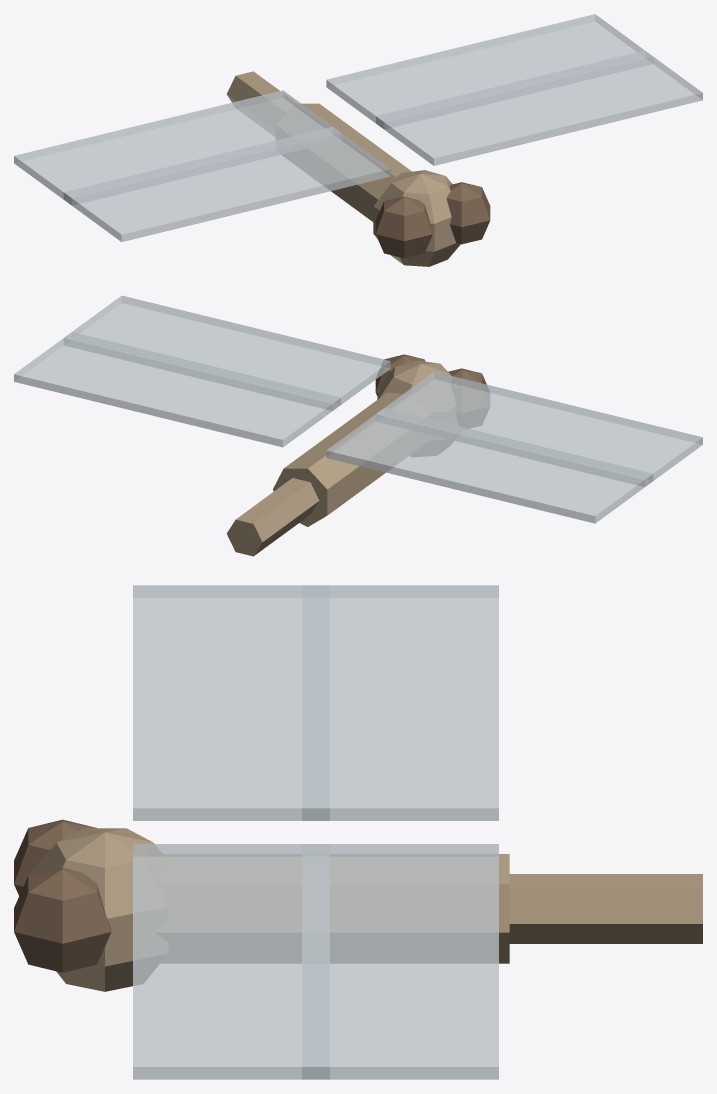
File: critter_dragonfly.glb
3 views of the same model, one above another, from view 1: azimuth 30°, elevation 25°; view 2: azimuth 150°, elevation 25°; view 3: azimuth 270°, elevation 25° (orthographic). The views are drawn at different scales.
Parts seen in each view (by area): view 1: Dragonfly_Wing2, Dragonfly_Wing0, Dragonfly_Wing1, Dragonfly_Wing3, Dragonfly_Body, Dragonfly_Head, Dragonfly_EyeL, Dragonfly_Tail, Dragonfly_EyeR; view 2: Dragonfly_Wing1, Dragonfly_Wing3, Dragonfly_Wing0, Dragonfly_Wing2, Dragonfly_Body, Dragonfly_Tail, Dragonfly_Head, Dragonfly_EyeL, Dragonfly_EyeR; view 3: Dragonfly_Wing0, Dragonfly_Wing1, Dragonfly_Wing2, Dragonfly_Wing3, Dragonfly_Body, Dragonfly_Tail, Dragonfly_Head, Dragonfly_EyeR, Dragonfly_EyeL.
Part boxes in pixels (x1,y1,x2,y2): Dragonfly_Wing2: (376, 50, 702, 165); Dragonfly_Wing0: (63, 126, 390, 241); Dragonfly_Wing1: (14, 90, 340, 205); Dragonfly_Wing3: (326, 14, 652, 129); Dragonfly_Body: (276, 103, 411, 221); Dragonfly_Head: (373, 170, 460, 266); Dragonfly_EyeL: (375, 196, 432, 258); Dragonfly_Tail: (226, 71, 295, 135); Dragonfly_EyeR: (446, 182, 490, 244); Dragonfly_Wing1: (326, 408, 652, 523); Dragonfly_Wing3: (14, 332, 340, 447); Dragonfly_Wing0: (376, 371, 702, 486); Dragonfly_Wing2: (64, 295, 390, 410); Dragonfly_Body: (273, 393, 430, 526); Dragonfly_Tail: (226, 478, 319, 556); Dragonfly_Head: (377, 360, 457, 456); Dragonfly_EyeL: (448, 368, 489, 427); Dragonfly_EyeR: (375, 354, 425, 396); Dragonfly_Wing0: (133, 585, 329, 820); Dragonfly_Wing1: (302, 585, 498, 820); Dragonfly_Wing2: (133, 844, 329, 1079); Dragonfly_Wing3: (302, 844, 498, 1079); Dragonfly_Body: (155, 854, 509, 963); Dragonfly_Tail: (509, 874, 702, 943); Dragonfly_Head: (26, 828, 168, 991); Dragonfly_EyeR: (14, 868, 111, 972); Dragonfly_EyeL: (14, 819, 96, 895).
Size of the model in its own units: 0.162 by 0.025 by 0.0979.
